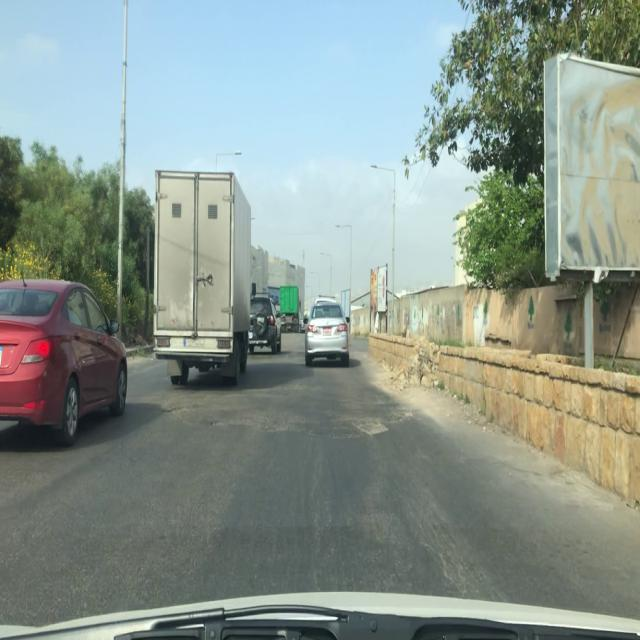Pothole: (353, 420, 390, 438), (162, 404, 186, 416), (399, 408, 414, 421)
